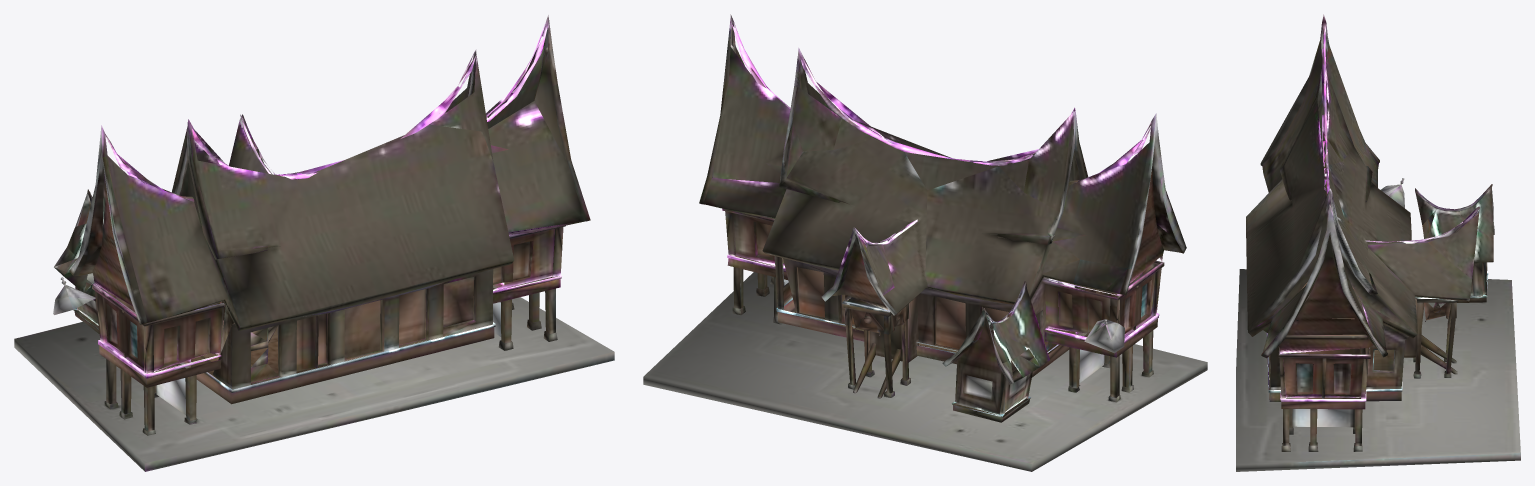
File: minang_rumah_gadang.glb
3 views of the same model, side by side, from view 1: azimuth 30°, elevation 25°; view 2: azimuth 150°, elevation 25°; view 3: azimuth 270°, elevation 25° (orthographic). The views are drawn at different scales.
Visible parts, largest first — view 1: Body, Glow; view 2: Body, Glow; view 3: Body, Glow.
Boxes of the visible parts, x1,y1,x2,y2 form: Body: (14, 15, 614, 471); Glow: (92, 24, 561, 392); Body: (643, 14, 1207, 471); Glow: (727, 24, 1159, 352); Body: (1236, 14, 1520, 471); Glow: (1266, 24, 1479, 401).
Bounding box in the file's own units: 12 × 7.63 × 7.4.
2 materials, 2 textured.
